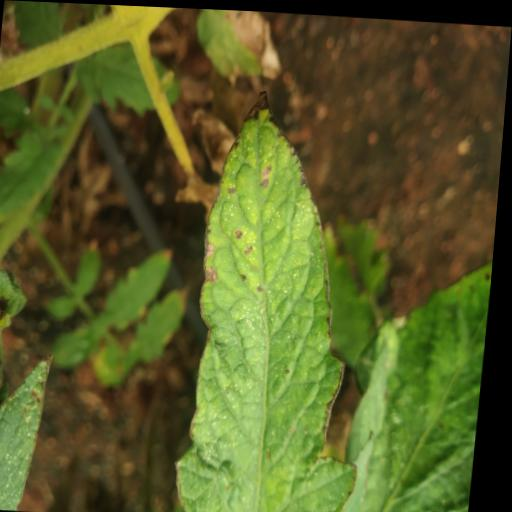Early Blight: (177, 78, 397, 512)
